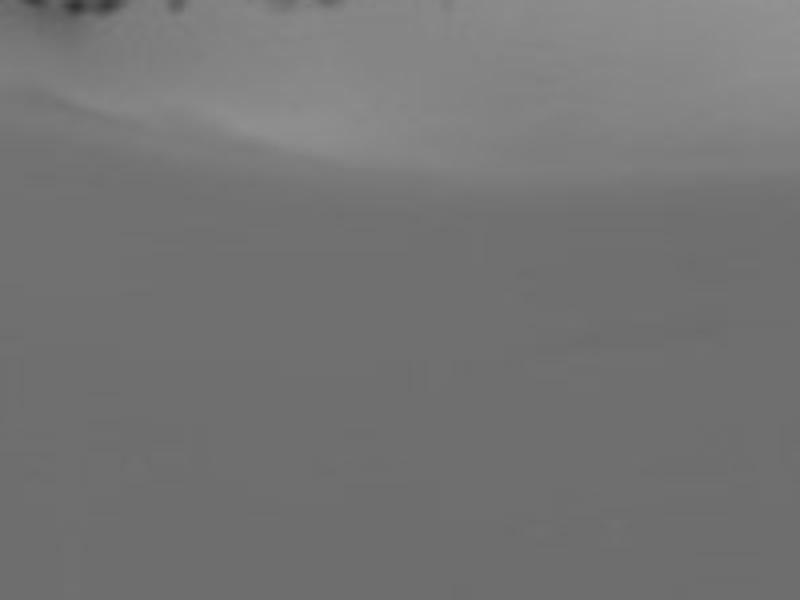defect: (61, 1, 90, 16), (308, 1, 344, 13), (97, 1, 116, 17), (19, 1, 49, 11), (272, 1, 296, 13), (169, 1, 189, 12)
